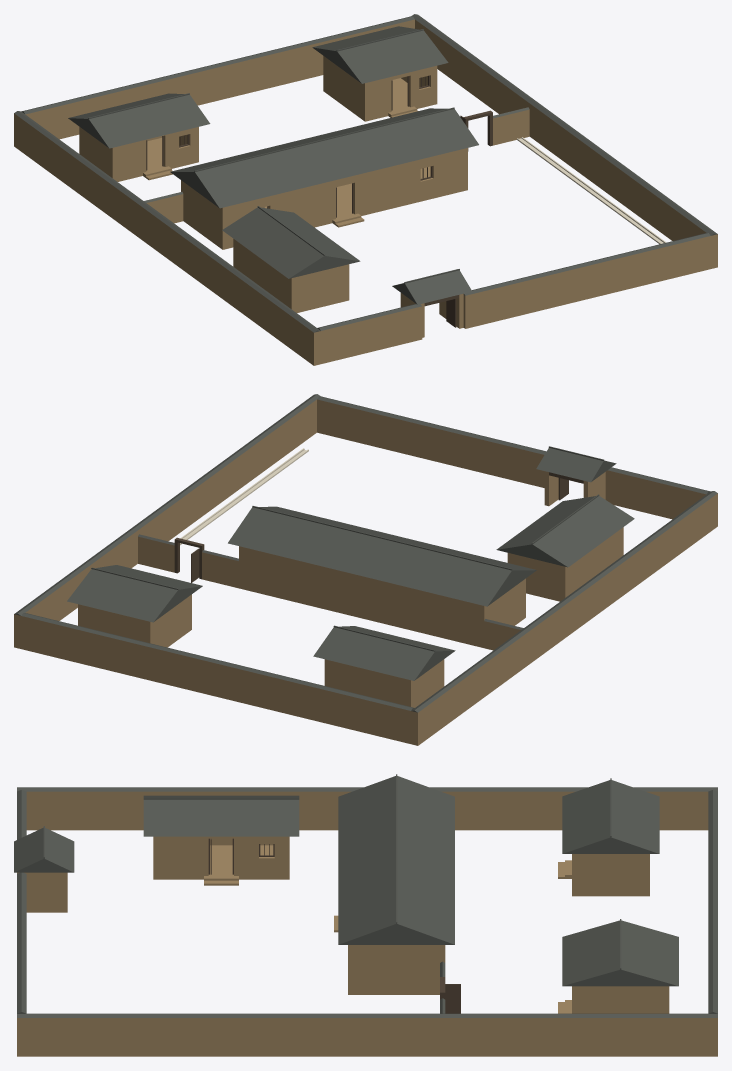
Rendered from court-TC03-2-LOD2.glb.
3 renders of one model, top to bottom at view 1: azimuth 30°, elevation 25°; view 2: azimuth 150°, elevation 25°; view 3: azimuth 270°, elevation 25°, orthographic. The views are drawn at different scales.
Parts seen in each view (by area): view 1: court-TC03-2-static_earth, court-TC03-2-static_tile, court-TC03-2-static_timber, court-TC03-2-static_stone; view 2: court-TC03-2-static_earth, court-TC03-2-static_tile, court-TC03-2-static_timber, court-TC03-2-static_stone; view 3: court-TC03-2-static_earth, court-TC03-2-static_tile, court-TC03-2-static_timber.
Boxes of the visible parts, bbox=[...] form: court-TC03-2-static_earth: bbox=[14, 19, 717, 365]; court-TC03-2-static_tile: bbox=[14, 14, 717, 332]; court-TC03-2-static_timber: bbox=[146, 75, 492, 327]; court-TC03-2-static_stone: bbox=[517, 137, 666, 244]; court-TC03-2-static_earth: bbox=[14, 399, 717, 745]; court-TC03-2-static_tile: bbox=[14, 394, 717, 712]; court-TC03-2-static_timber: bbox=[174, 472, 583, 582]; court-TC03-2-static_stone: bbox=[180, 448, 308, 545]; court-TC03-2-static_earth: bbox=[17, 791, 717, 1056]; court-TC03-2-static_tile: bbox=[14, 774, 717, 1017]; court-TC03-2-static_timber: bbox=[208, 838, 460, 1013].
Bounding box in the file's own units: 28 × 4.34 × 36.15.
